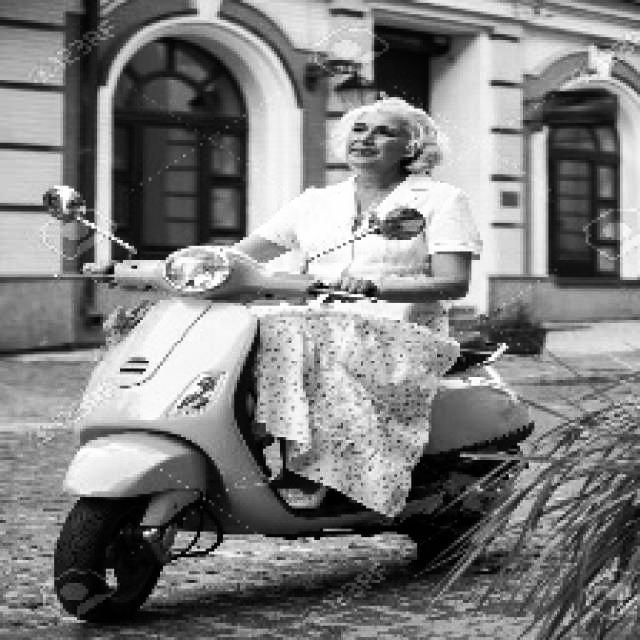Bike: (83, 244, 507, 615)
